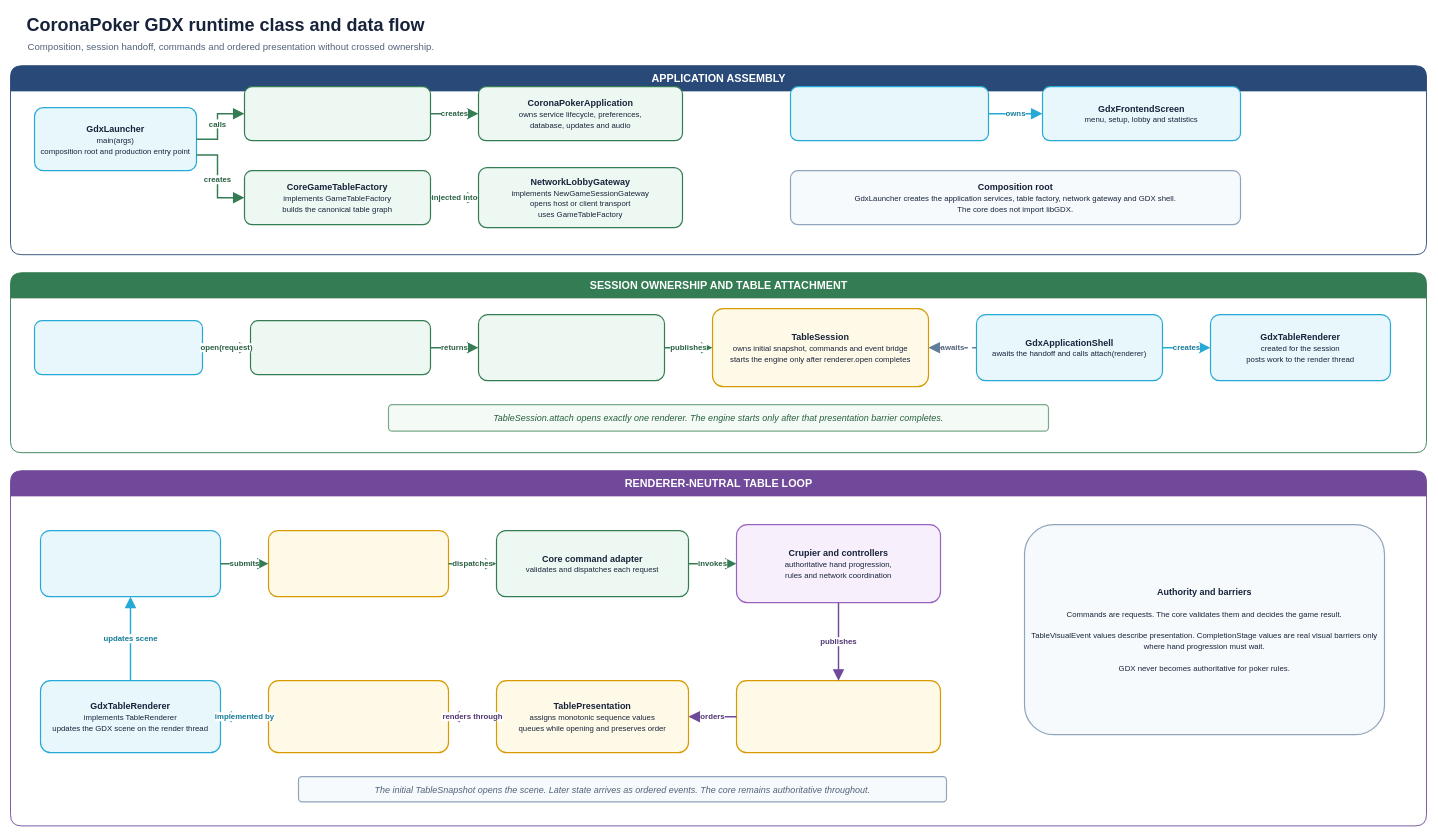
Image size: 1438x836. Some labels were removed from this diagram. Each missing label, with the centre of its shape:
"<<interface>> TableCommandSink submit(TableCommand)" goes at (358,563).
"<<interface>> TableRenderer open(snapshot) render(event) close()" goes at (358,716).
"CoronaPokerBootstrap creates process services" goes at (337,113).
"CoronaPokerGdxTable draws the table and final summary captures player input" goes at (130,563).
"GdxApplicationShell coordinates screens and active table scene" goes at (889,113).
"GdxFrontendScreen submits NewGameRequest" goes at (118,347).
"LobbySession owns lobby state, commands and transport publishes one TableSession" goes at (571,347).
"NetworkLobbyGateway validates setup and owns transport" goes at (340,347).
"TableEventBridge attaches one presentation publishes TableVisualEvent values" goes at (838,716).
